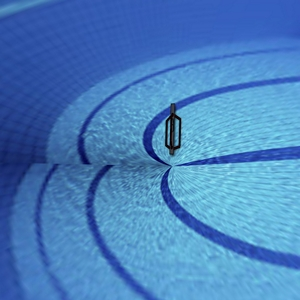submarine: (149, 101, 207, 168)
